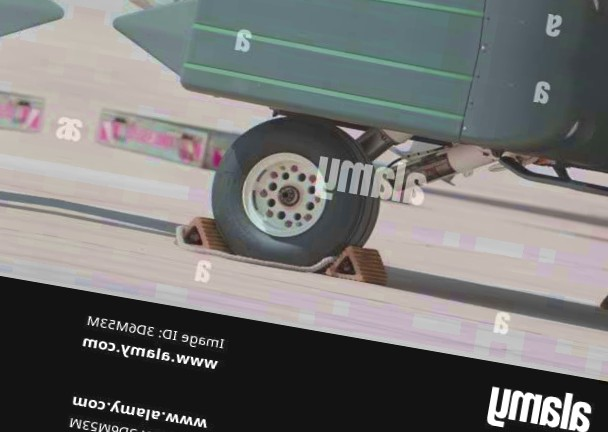chock: (171, 212, 239, 259), (325, 241, 393, 286)
wheel: (203, 103, 392, 276)
